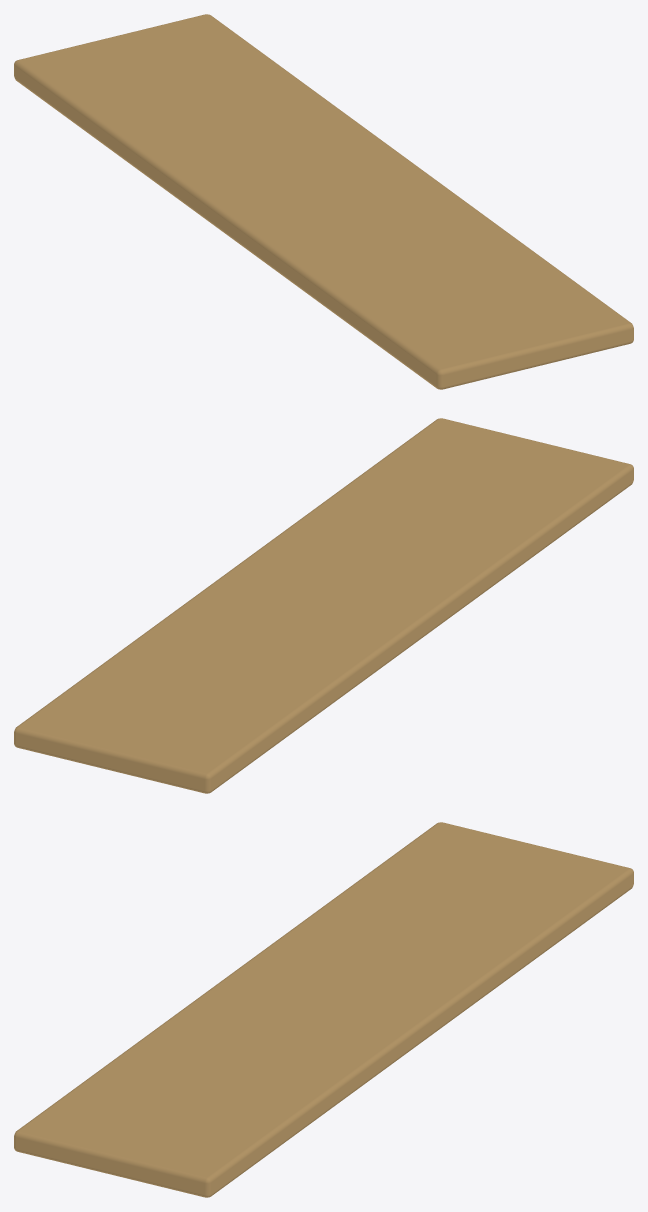
The model's file is path.glb.
3 renders of one model, top to bottom at view 1: azimuth 30°, elevation 25°; view 2: azimuth 150°, elevation 25°; view 3: azimuth 330°, elevation 25°, orthographic.
Visible parts, largest first — view 1: path; view 2: path; view 3: path.
Boxes of the visible parts, x1=… form: path: x1=14, y1=14, x2=633, y2=389; path: x1=14, y1=418, x2=633, y2=793; path: x1=14, y1=822, x2=633, y2=1197.
Size of the model in its own units: 1.6 by 0.16 by 6.
